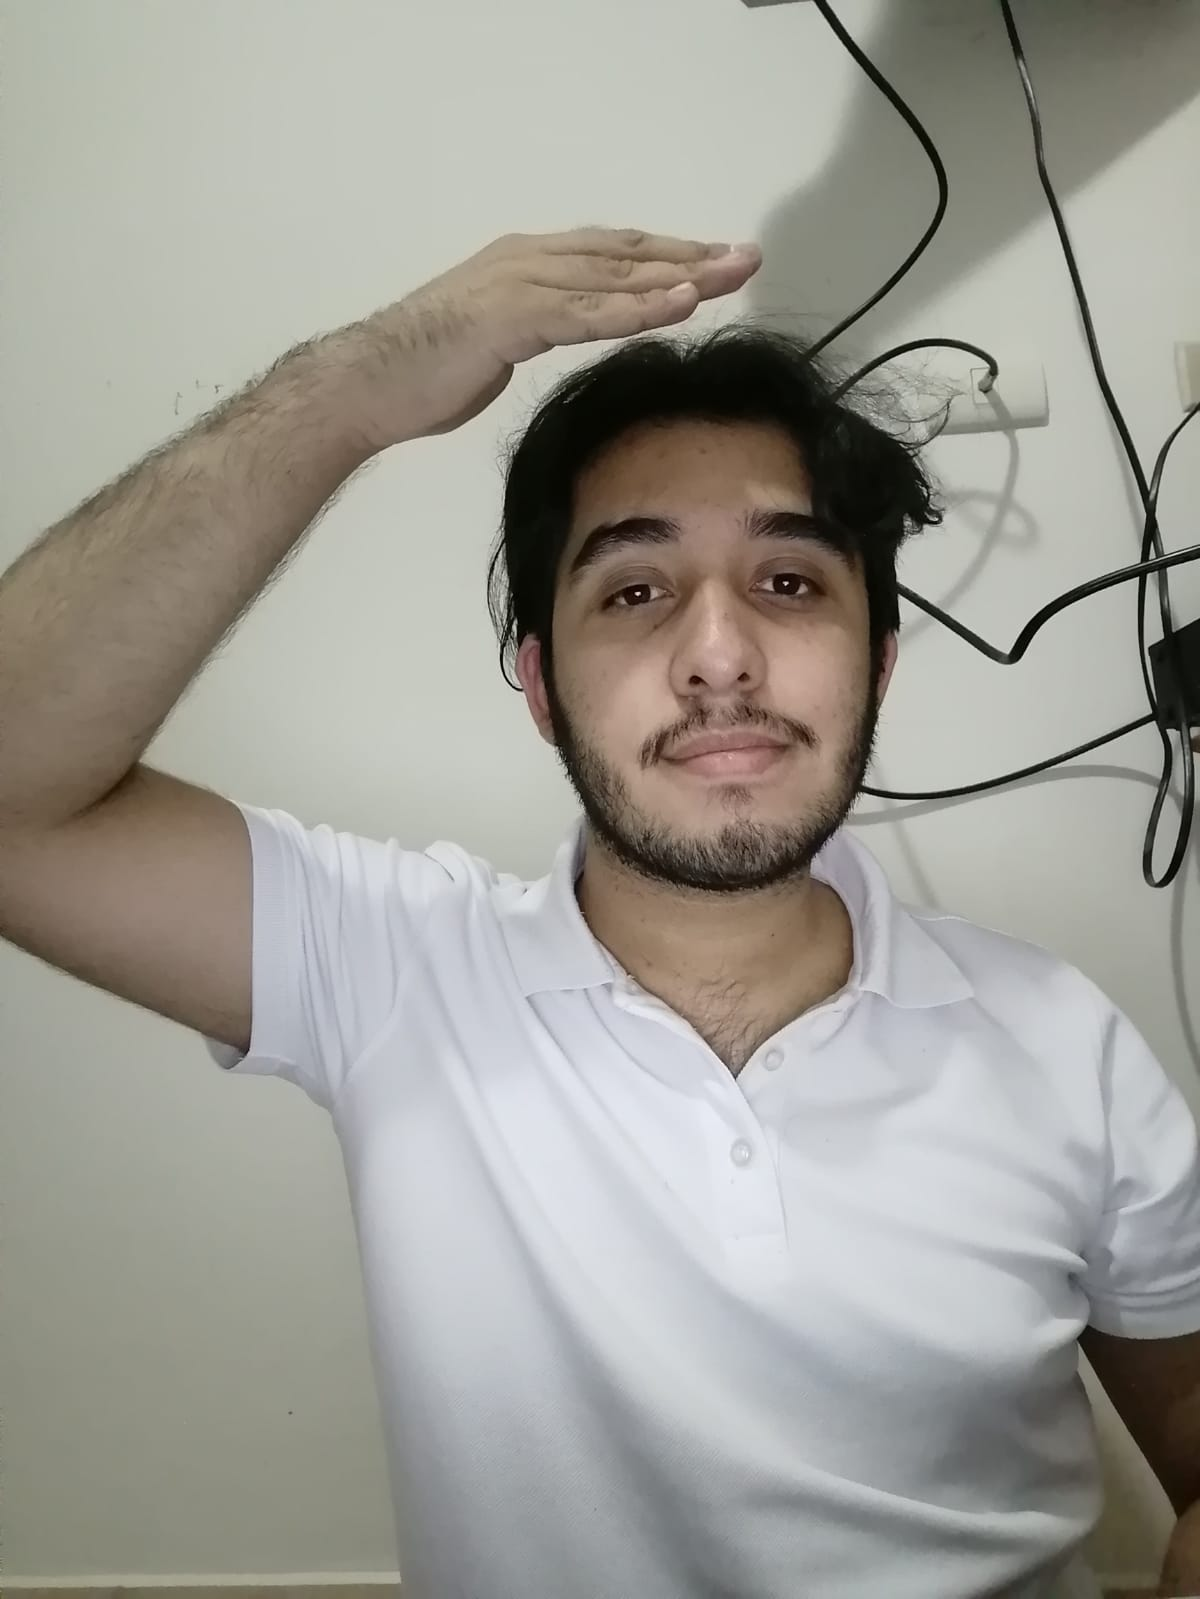Hat: (272, 219, 769, 457)
